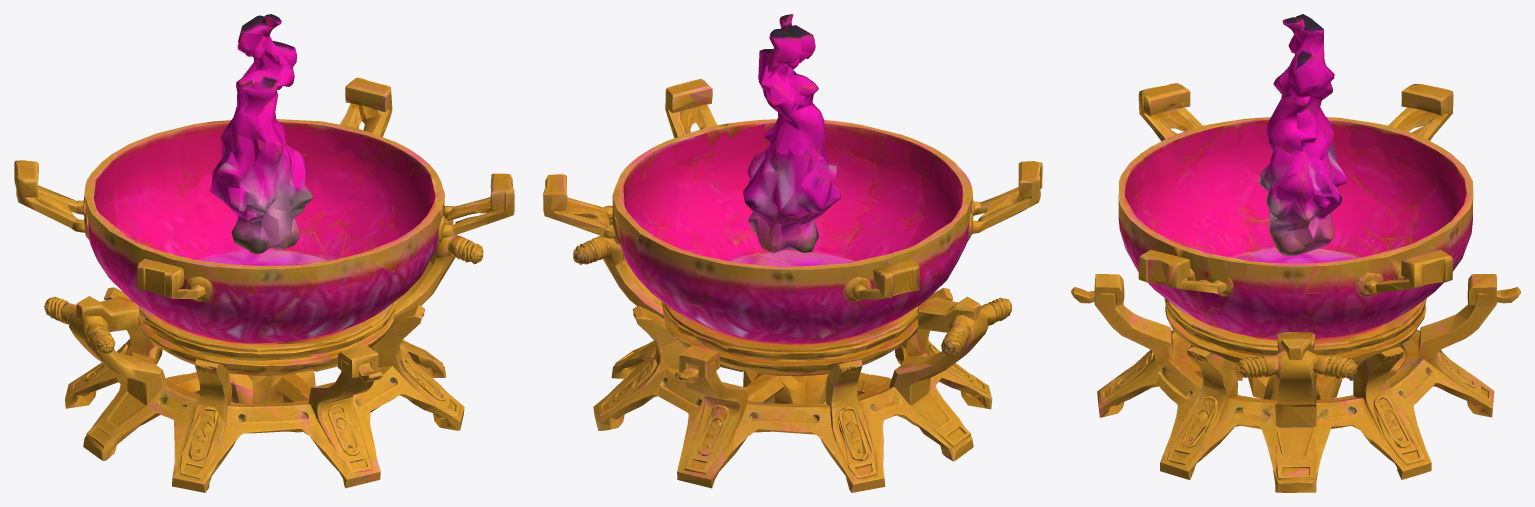
The model's file is mx_ct_brazier.glb.
The picture shows the model from 3 angles, left to right: view 1: azimuth 30°, elevation 25°; view 2: azimuth 150°, elevation 25°; view 3: azimuth 270°, elevation 25°; orthographic projection.
Size of the model in its own units: 1.89 by 1.84 by 1.9.
Materials: 1 (1 with a texture image).
